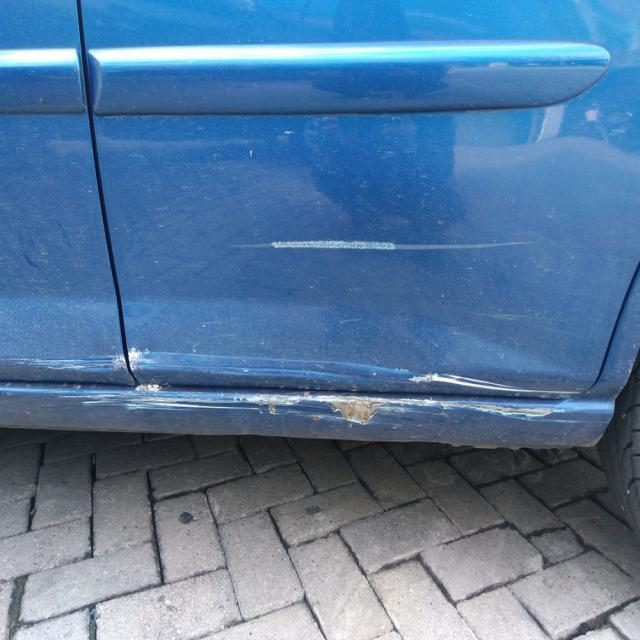scratch: (128, 345, 581, 397), (71, 393, 593, 427), (237, 236, 530, 252), (9, 355, 125, 371)
